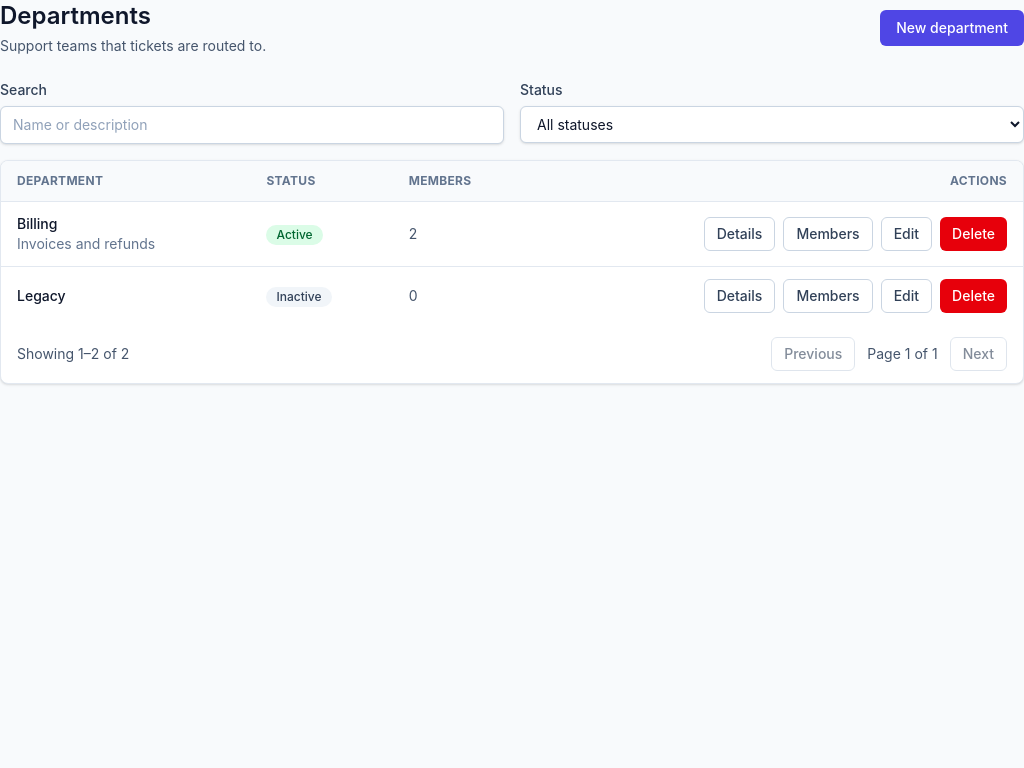
DepartmentsPage › create and edit › shows the backend error under the field for a duplicate name
Expected: the text "Billing" is shown, [17,215,57,232]
Click the button "New department": x=952, y=28 [880,10,1023,46]
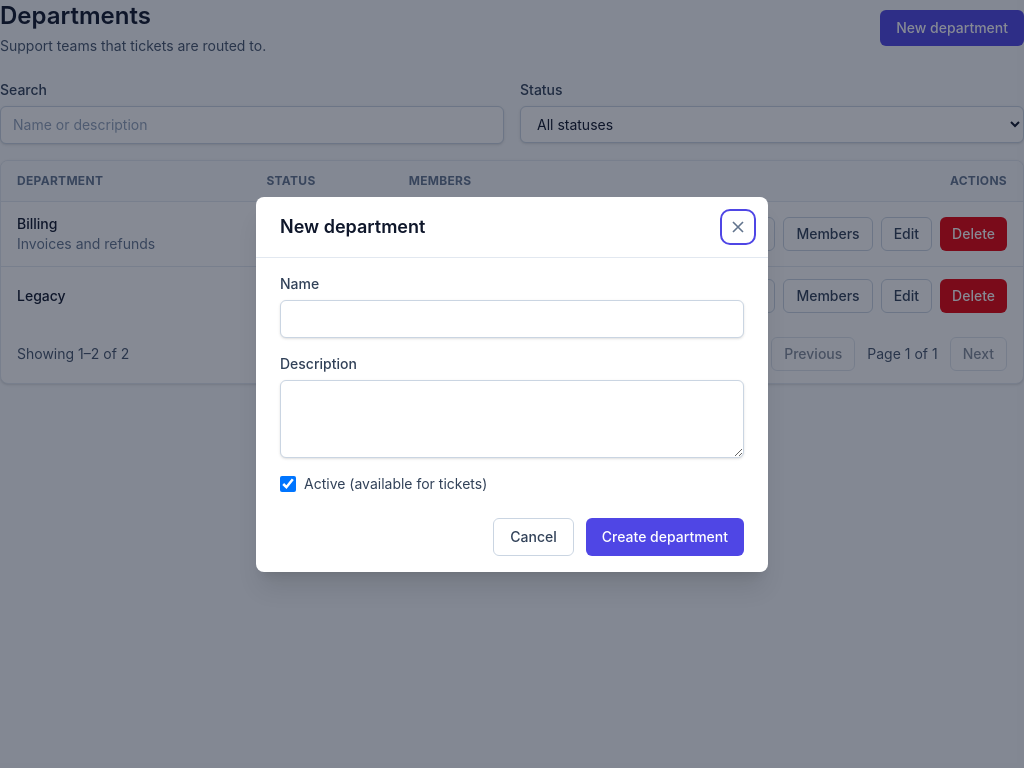
In the field labelled "Name": x=512, y=318 [280,300,744,338], type "Billing"
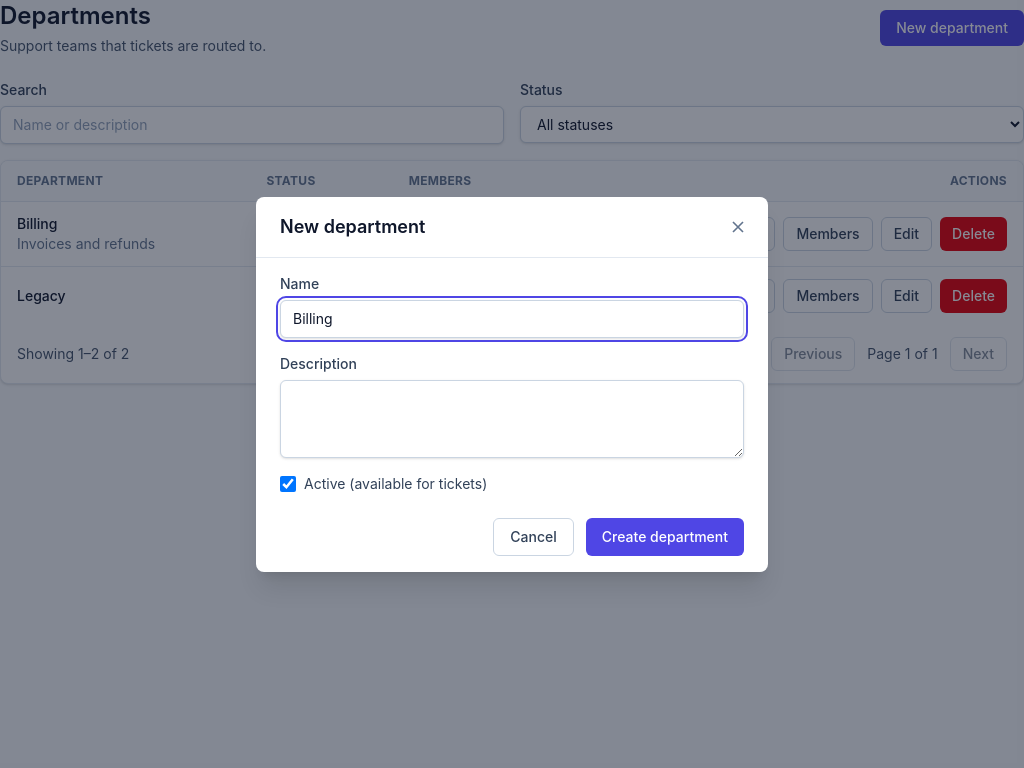
Click the button "Create department": x=665, y=536 [586,518,744,556]
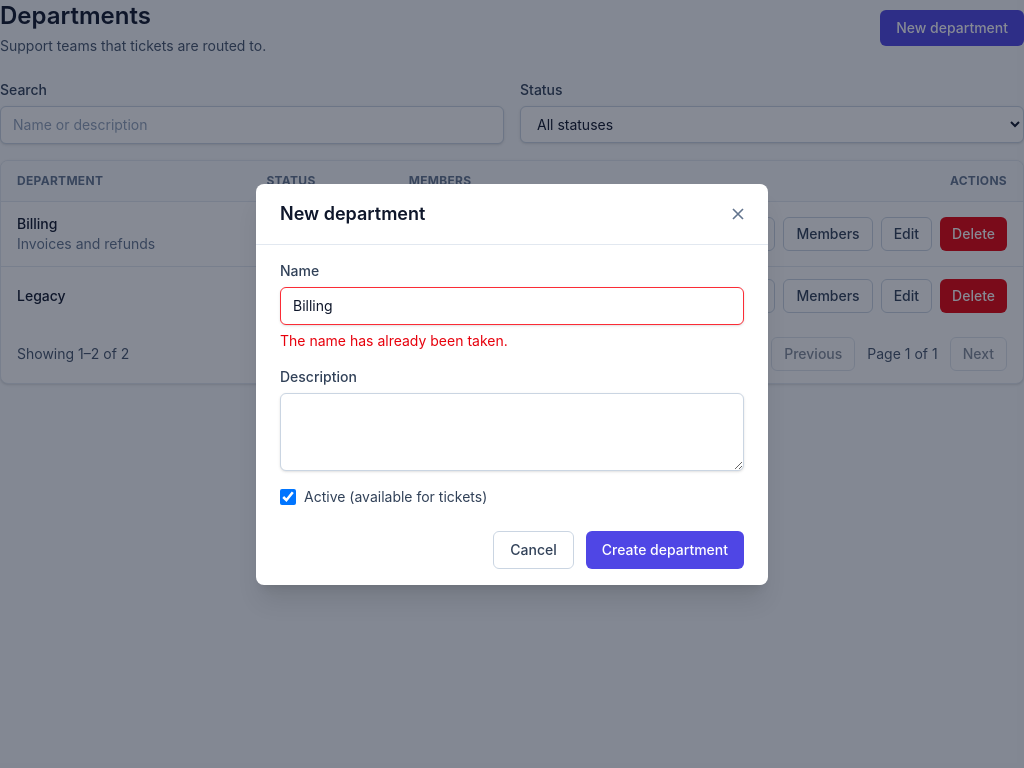
Expected: the dialog is shown, [256,184,768,584]
Expected: the text "The name has already been taken." is shown, [280,332,508,348]
